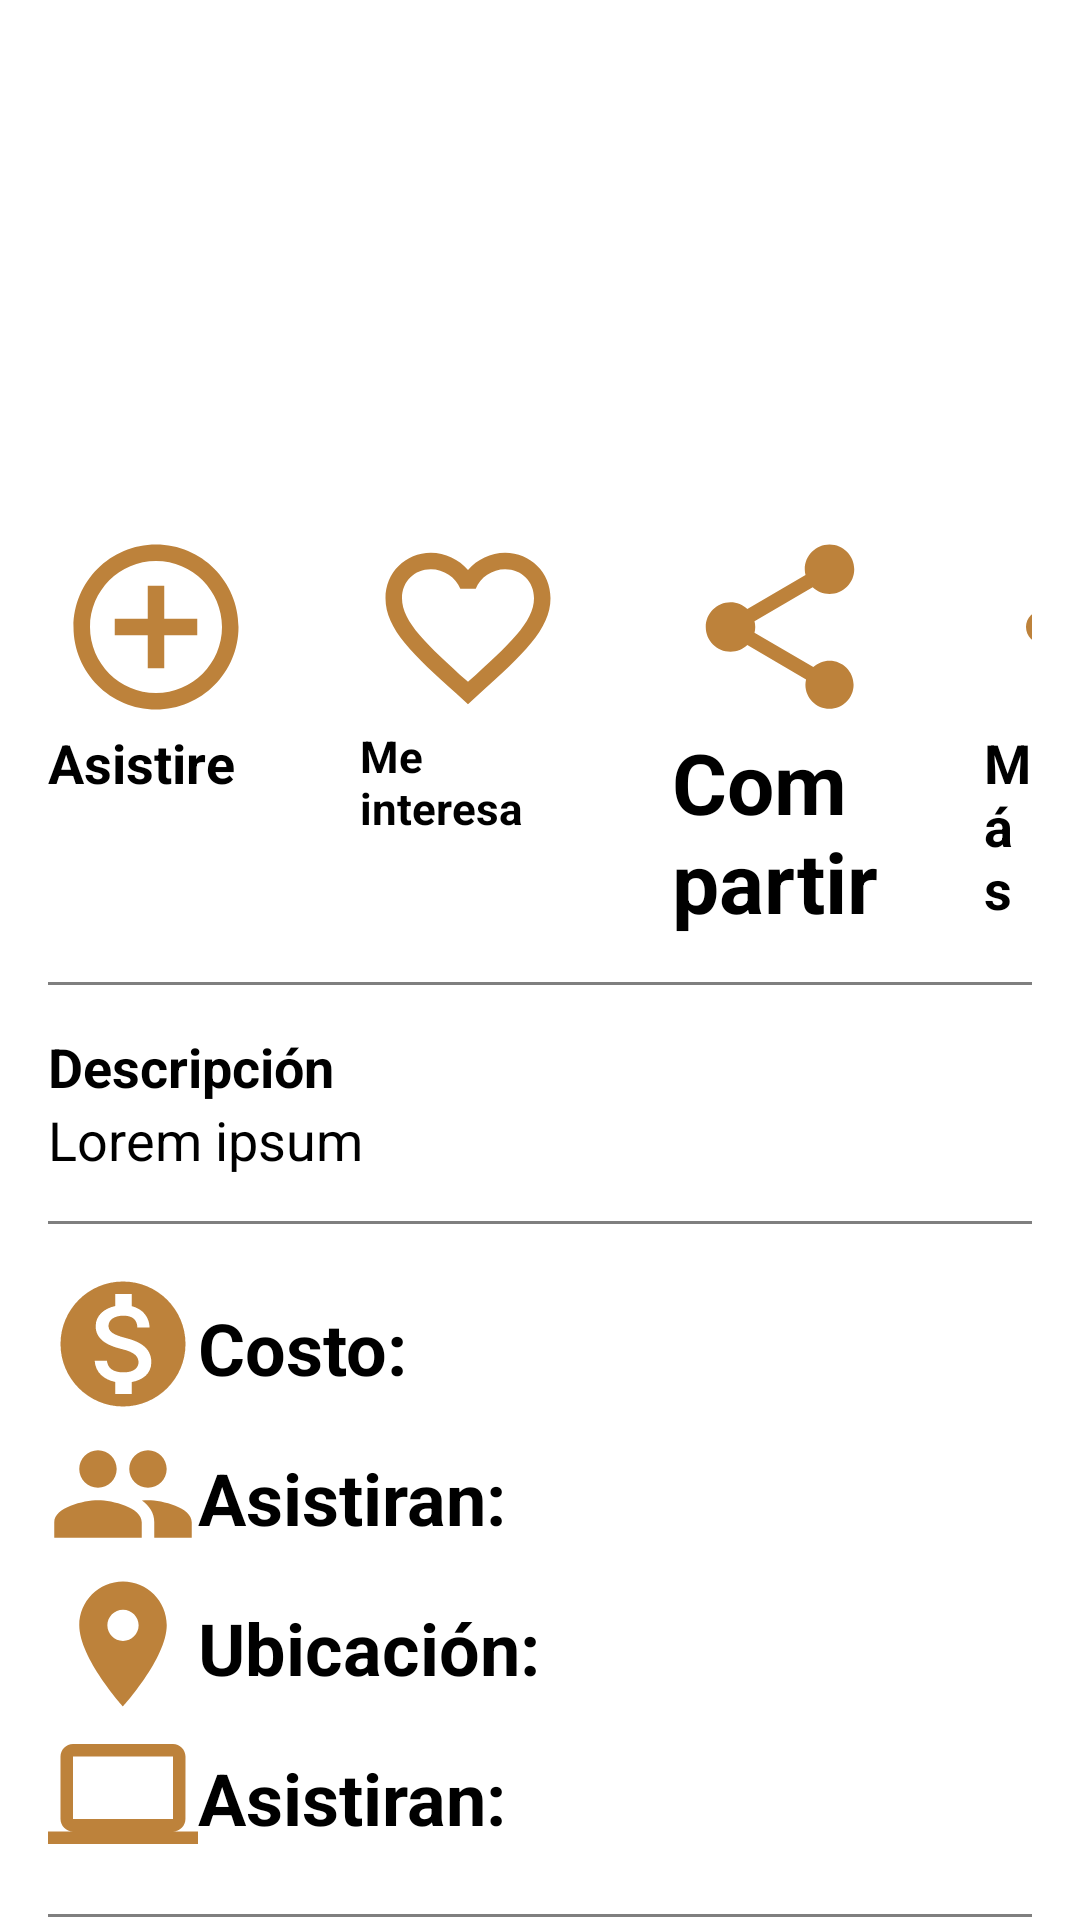

Where to tap for icons on this 1080×1920 app screen, as (x,y):
add circle brown: (156,627)
favorite border brown: (468,628)
share brown: (780,626)
